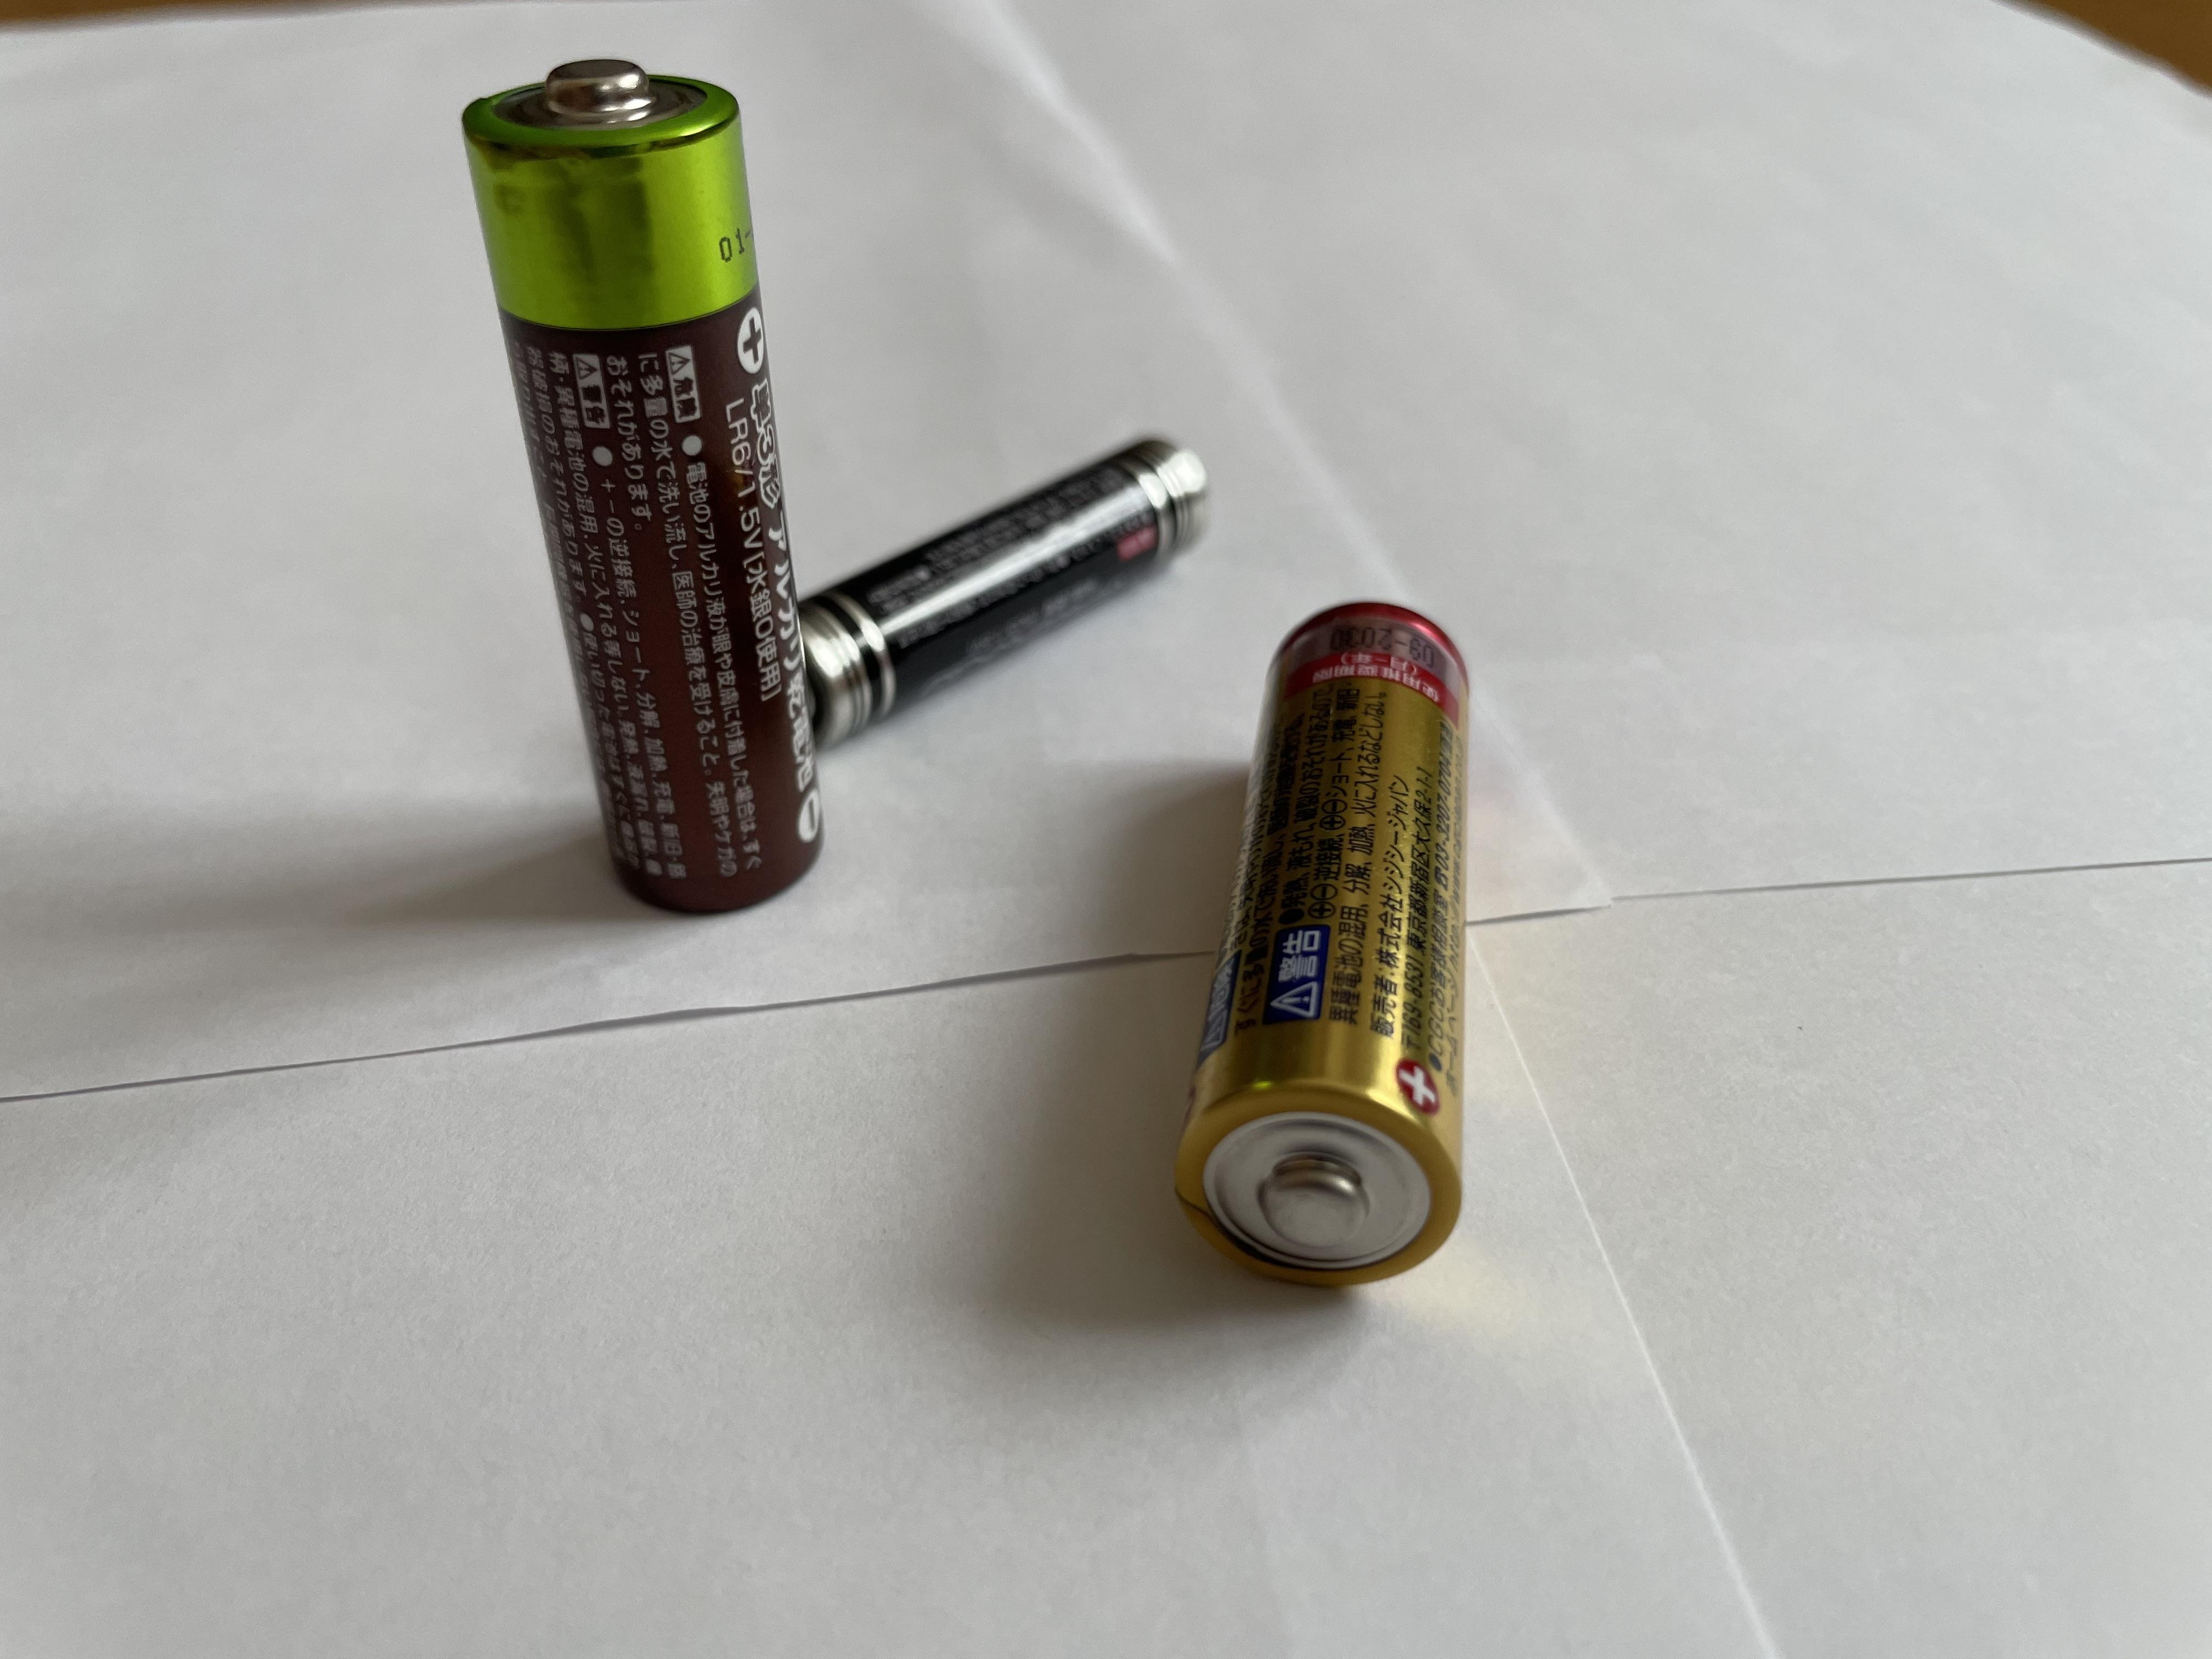Battery: (1170, 603, 1477, 1302)
